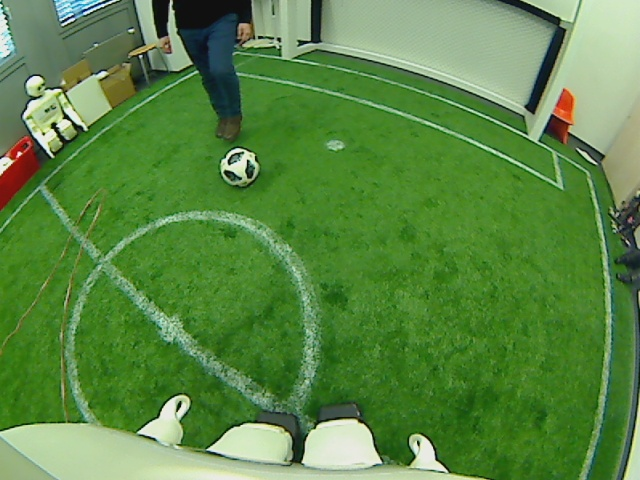ball: (220, 147, 260, 185)
